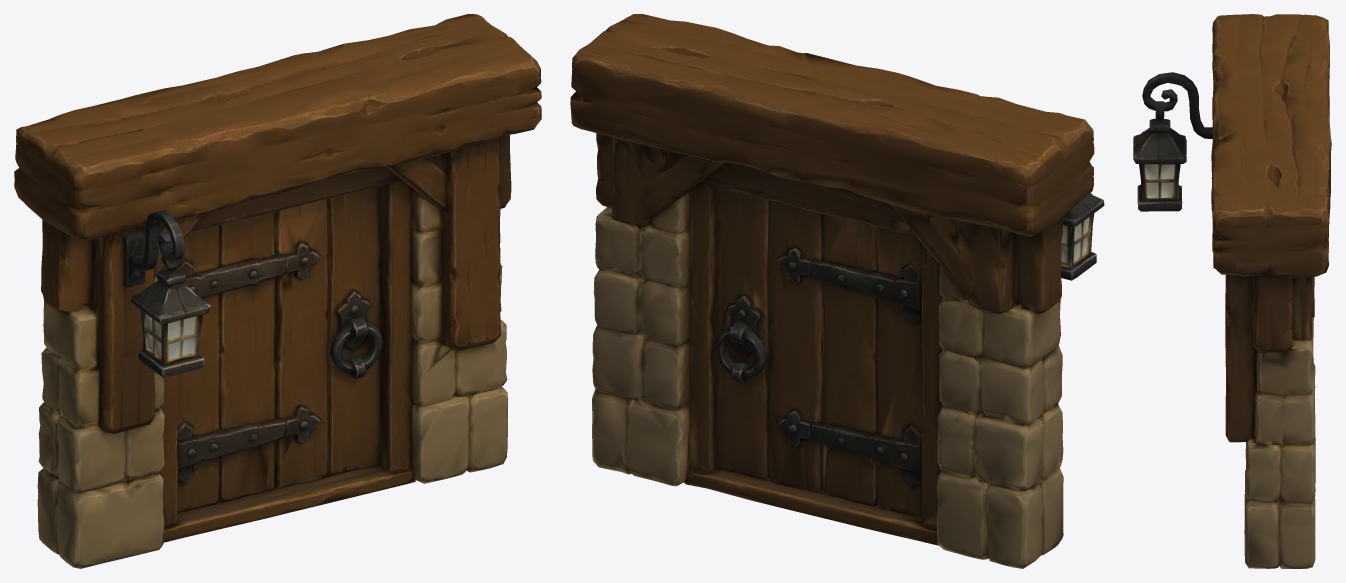
Rendered from mod_door_b.glb.
3 views of the same model, side by side, from view 1: azimuth 30°, elevation 25°; view 2: azimuth 150°, elevation 25°; view 3: azimuth 270°, elevation 25° (orthographic). The views are drawn at different scales.
Visible parts, largest first — view 1: tripo_node_06074503-3850-4b2f-a844-67d766f7da5f; view 2: tripo_node_06074503-3850-4b2f-a844-67d766f7da5f; view 3: tripo_node_06074503-3850-4b2f-a844-67d766f7da5f.
Part boxes in pixels (<box>): tripo_node_06074503-3850-4b2f-a844-67d766f7da5f: <box>14,14,541,568</box>; tripo_node_06074503-3850-4b2f-a844-67d766f7da5f: <box>570,14,1104,568</box>; tripo_node_06074503-3850-4b2f-a844-67d766f7da5f: <box>1133,14,1331,568</box>.
Size of the model in its own units: 0.98 by 0.8448 by 0.4119.
Materials: 1 (1 with a texture image).
